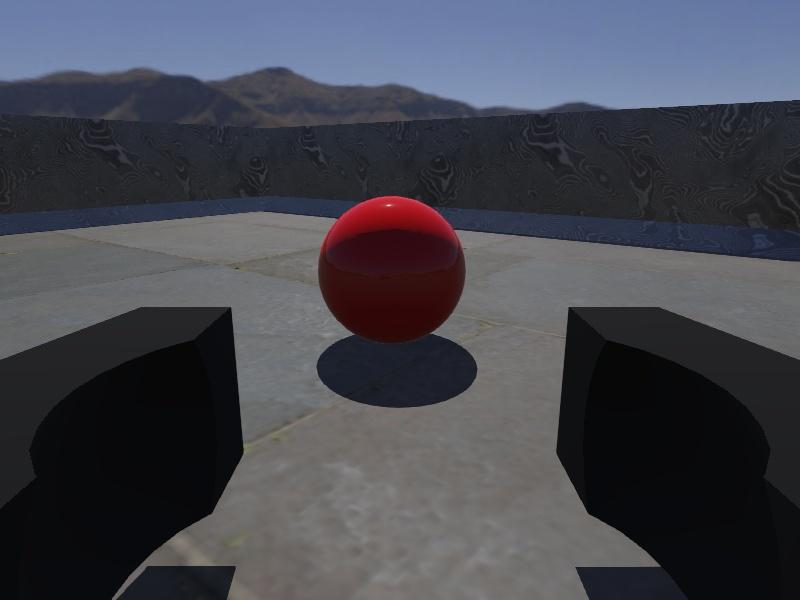red ball: (317, 195, 468, 347)
